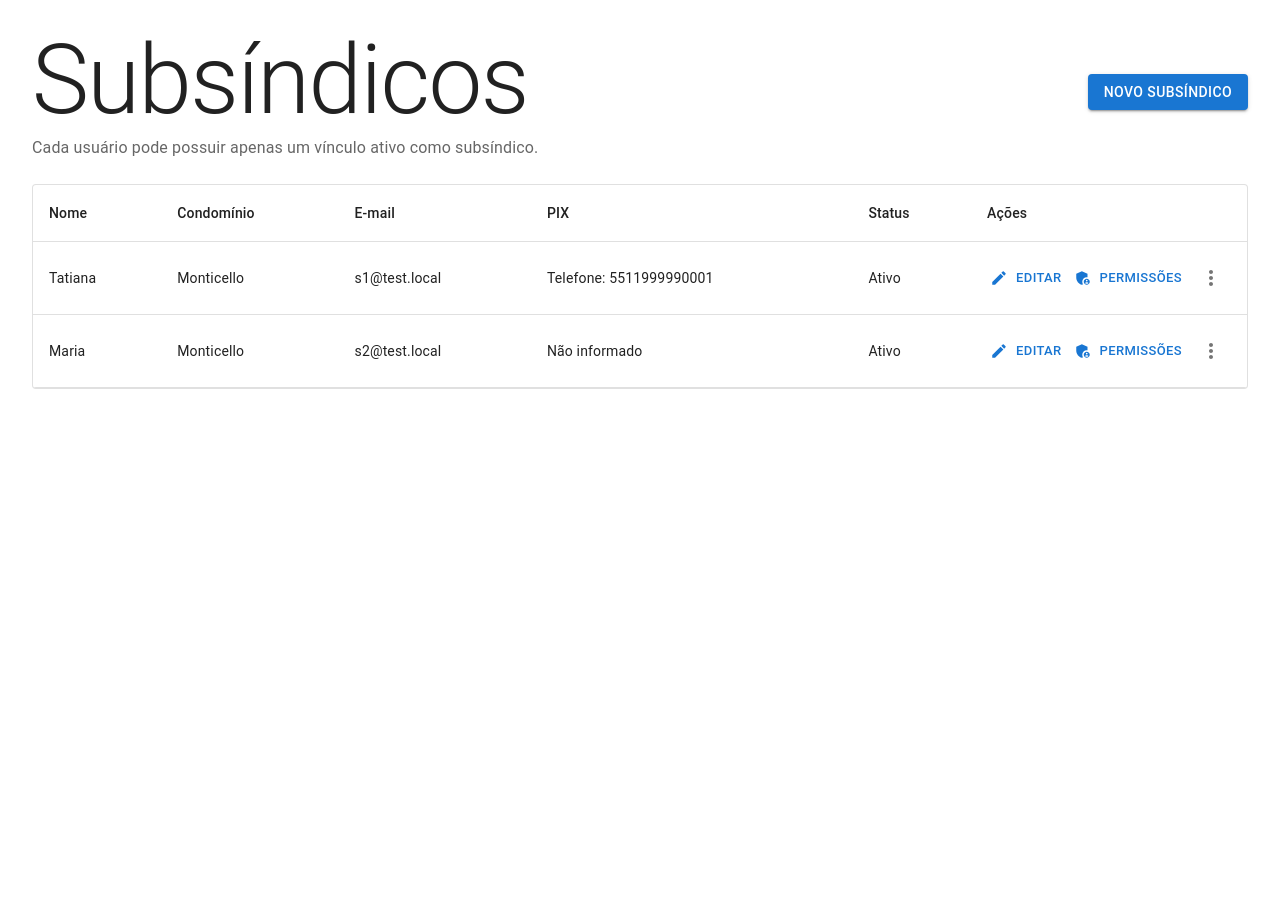
it: OverwatchSubManagersPage row isolation › hard deletes an eligible row only after the exact confirmation
expect the text "Tatiana" is shown: met, box [33, 242, 161, 314]
Click the button named "Mais": (1211, 278) [1191, 258, 1231, 298]
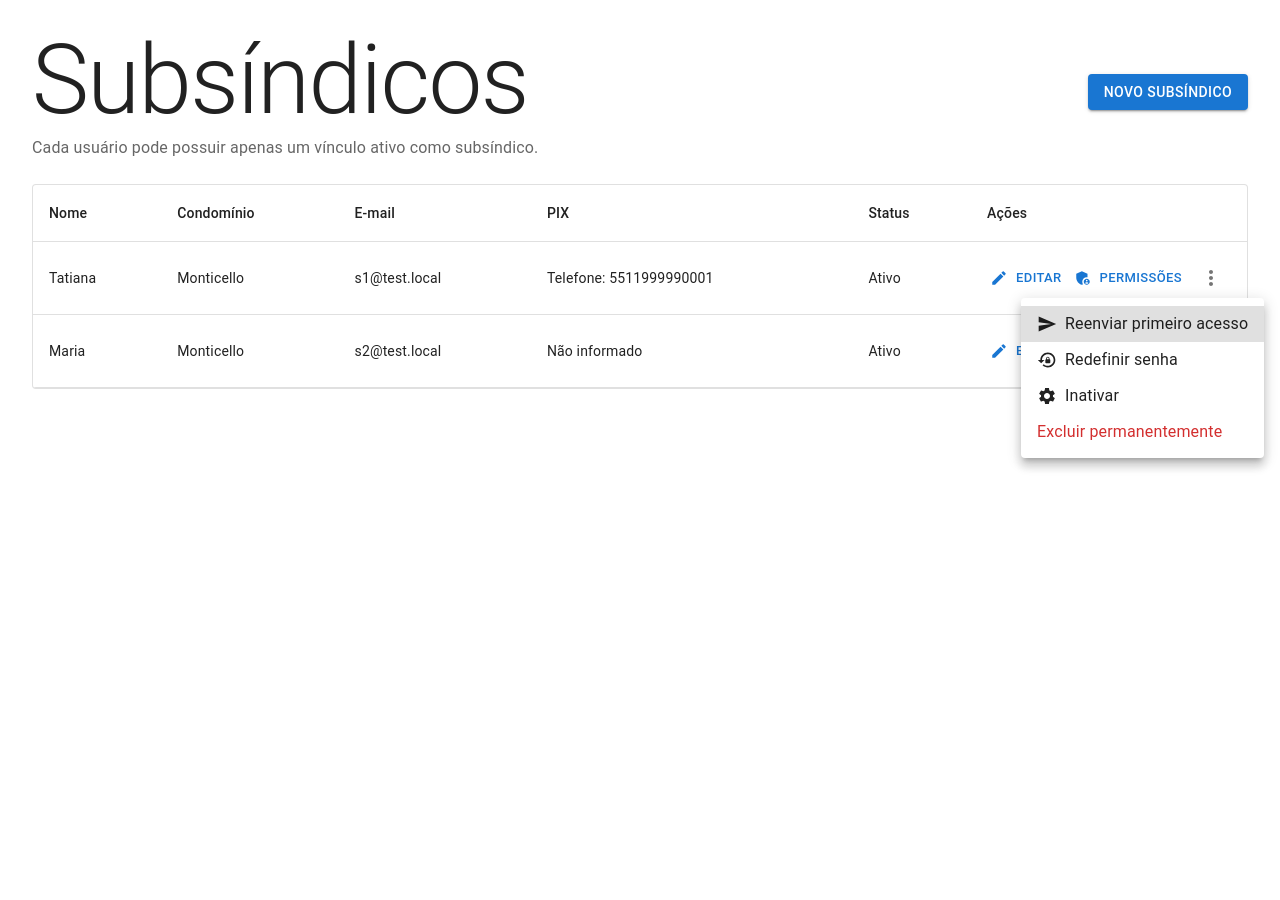
Click the menu item "Excluir permanentemente": (1130, 432) [1037, 422, 1222, 441]
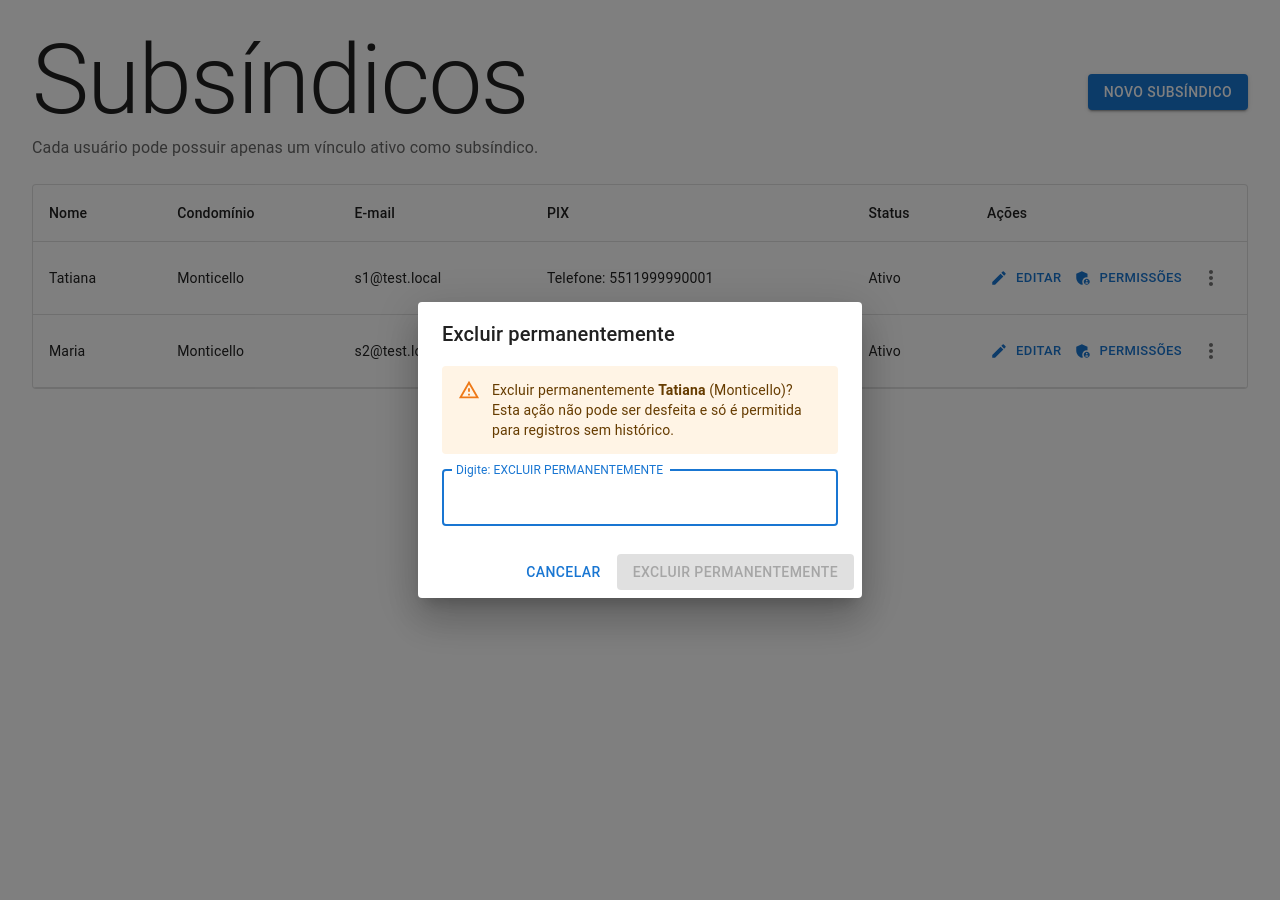
expect the button "Excluir permanentemente" is disabled: met, box [617, 554, 854, 590]
In the field: (640, 498) [442, 470, 838, 526], type "EXCLUIR PERMANENTEMENTE"
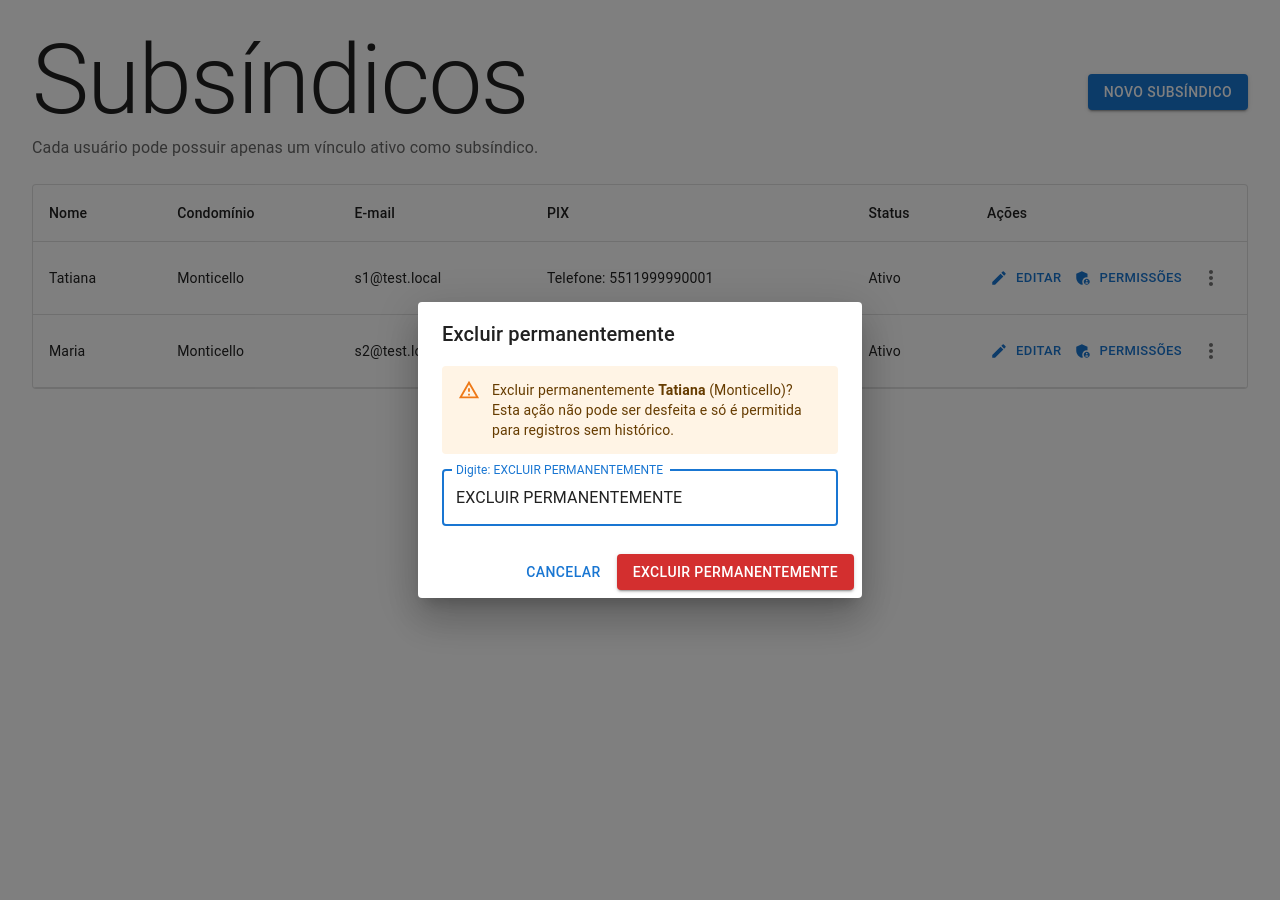
expect the button "Excluir permanentemente" is enabled: met
Click the button "Excluir permanentemente": (735, 572) [617, 554, 854, 590]
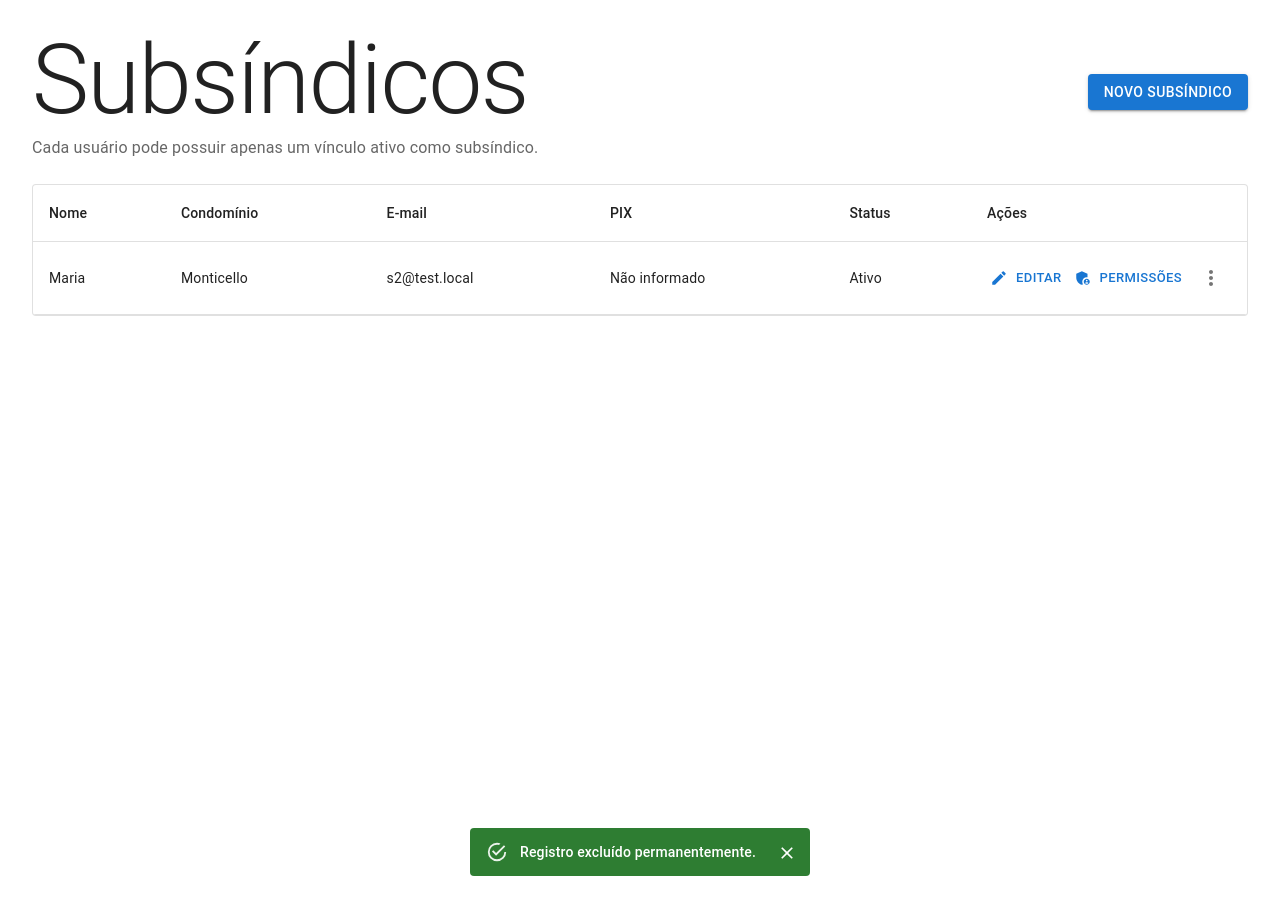
expect the text "Tatiana" is gone: met
